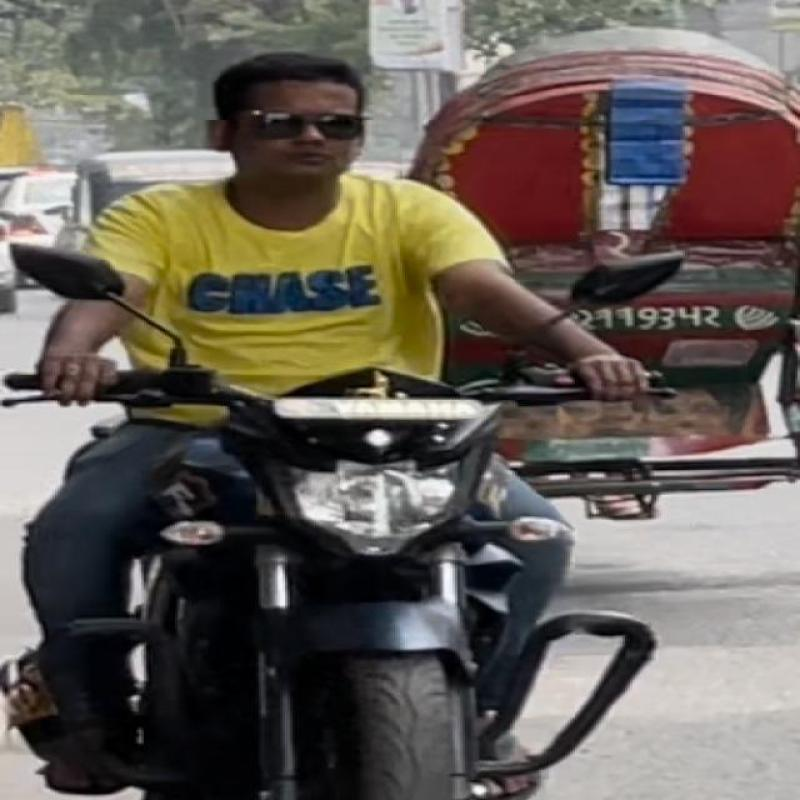nohelmet: (160, 34, 424, 202)
